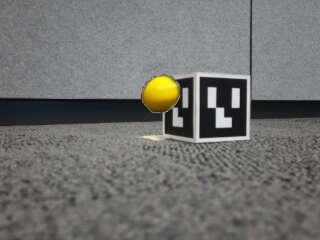lemon: (144, 76, 179, 112)
